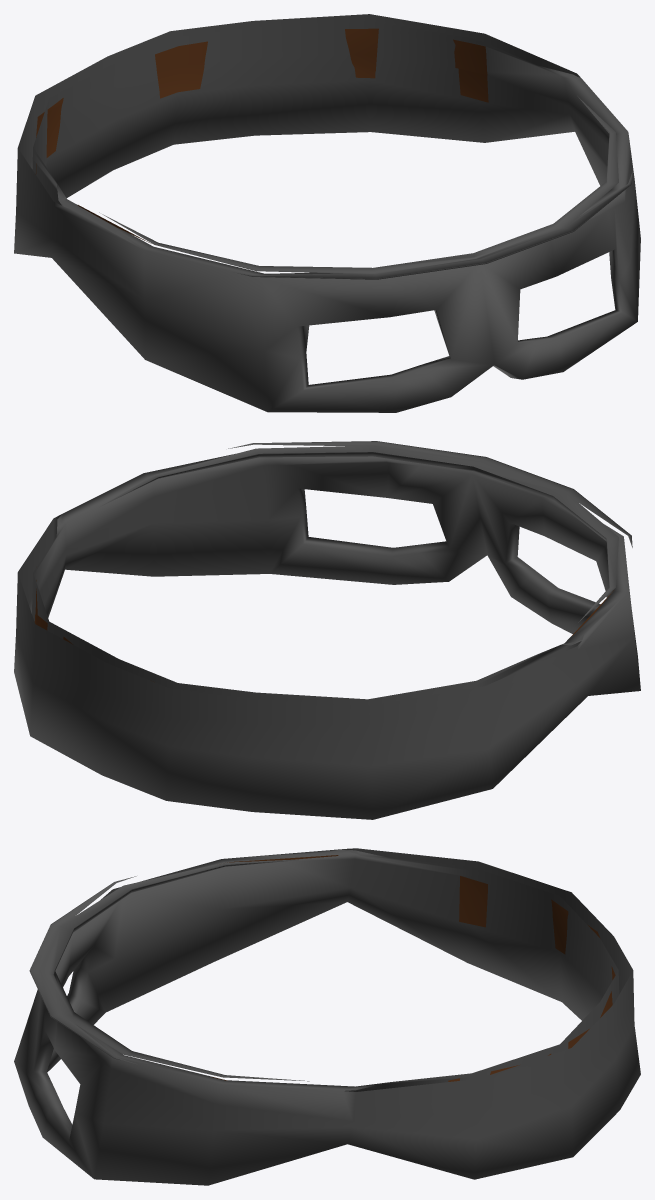
The model's file is mask.fbx.
3 renders of one model, top to bottom at view 1: azimuth 30°, elevation 25°; view 2: azimuth 150°, elevation 25°; view 3: azimuth 270°, elevation 25°, orthographic. The views are drawn at different scales.
Visible parts, largest first — view 1: Mask; view 2: Mask; view 3: Mask.
Boxes of the visible parts, left/top/right/bottom form: Mask: left=14, top=14, right=640, bottom=412; Mask: left=14, top=441, right=640, bottom=819; Mask: left=14, top=848, right=640, bottom=1185.
Bounding box in the file's own units: 42.7 × 10.44 × 45.32.
